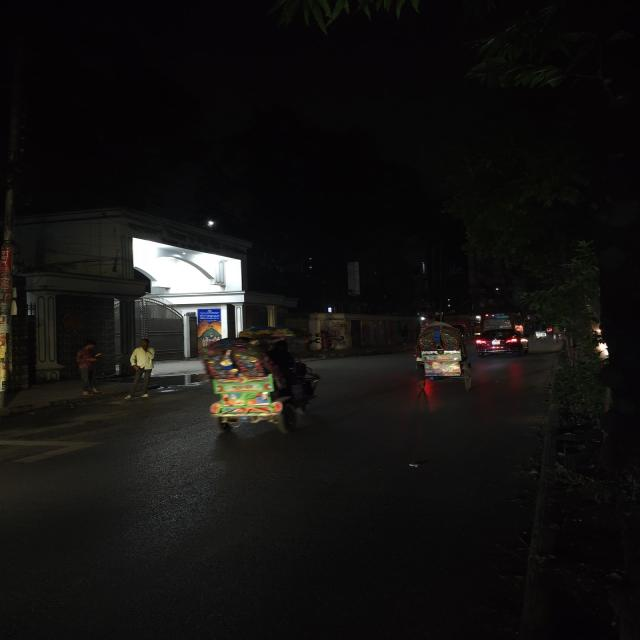bus: (478, 309, 518, 329)
car: (473, 327, 530, 357)
pedestrian: (125, 336, 161, 397), (71, 337, 106, 398)
rickshaw: (193, 328, 332, 438), (403, 315, 476, 395), (532, 321, 550, 342)
